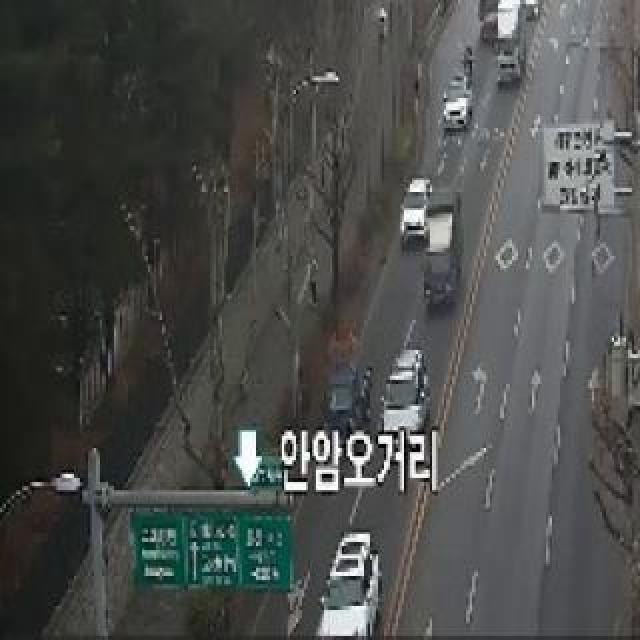truck: (321, 355, 373, 465), (423, 188, 459, 314), (492, 0, 532, 90), (402, 176, 434, 244), (443, 70, 473, 136), (478, 0, 512, 40)
